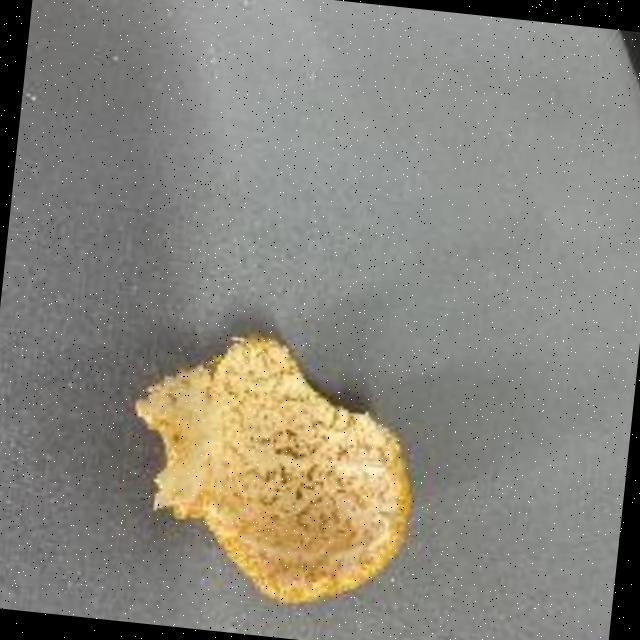orange-peel: (112, 316, 432, 618)
